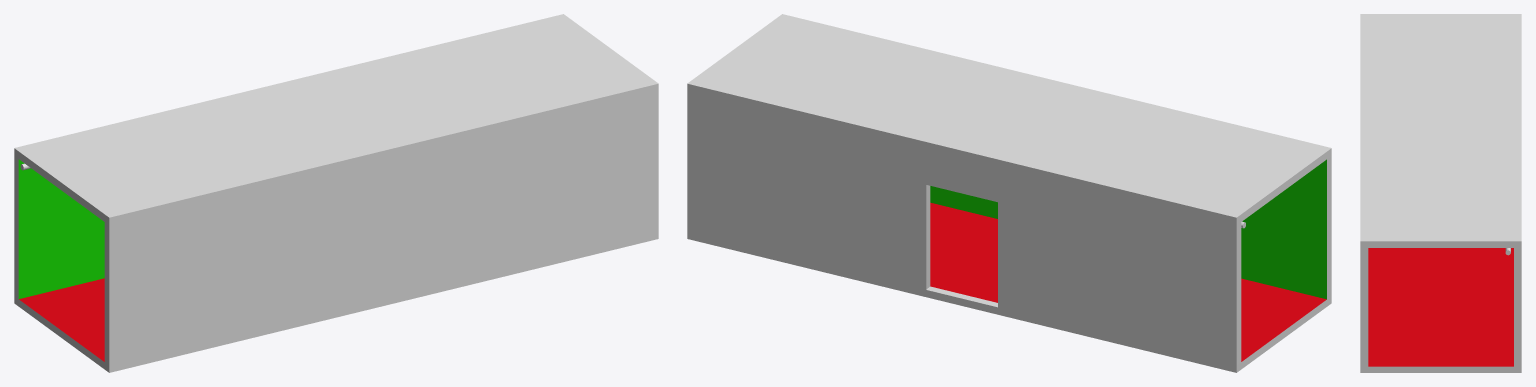
The model's file is HallDoorRight.fbx.
The picture shows the model from 3 angles, left to right: view 1: azimuth 30°, elevation 25°; view 2: azimuth 150°, elevation 25°; view 3: azimuth 270°, elevation 25°; orthographic projection. The views are drawn at different scales.
Visible parts, largest first — view 1: Hall; view 2: Hall; view 3: Hall.
Boxes of the visible parts, x1=… form: Hall: x1=14, y1=14, x2=658, y2=372; Hall: x1=687, y1=14, x2=1331, y2=372; Hall: x1=1360, y1=14, x2=1521, y2=372.
Bounding box in the file's own units: 2000 × 540 × 600.
